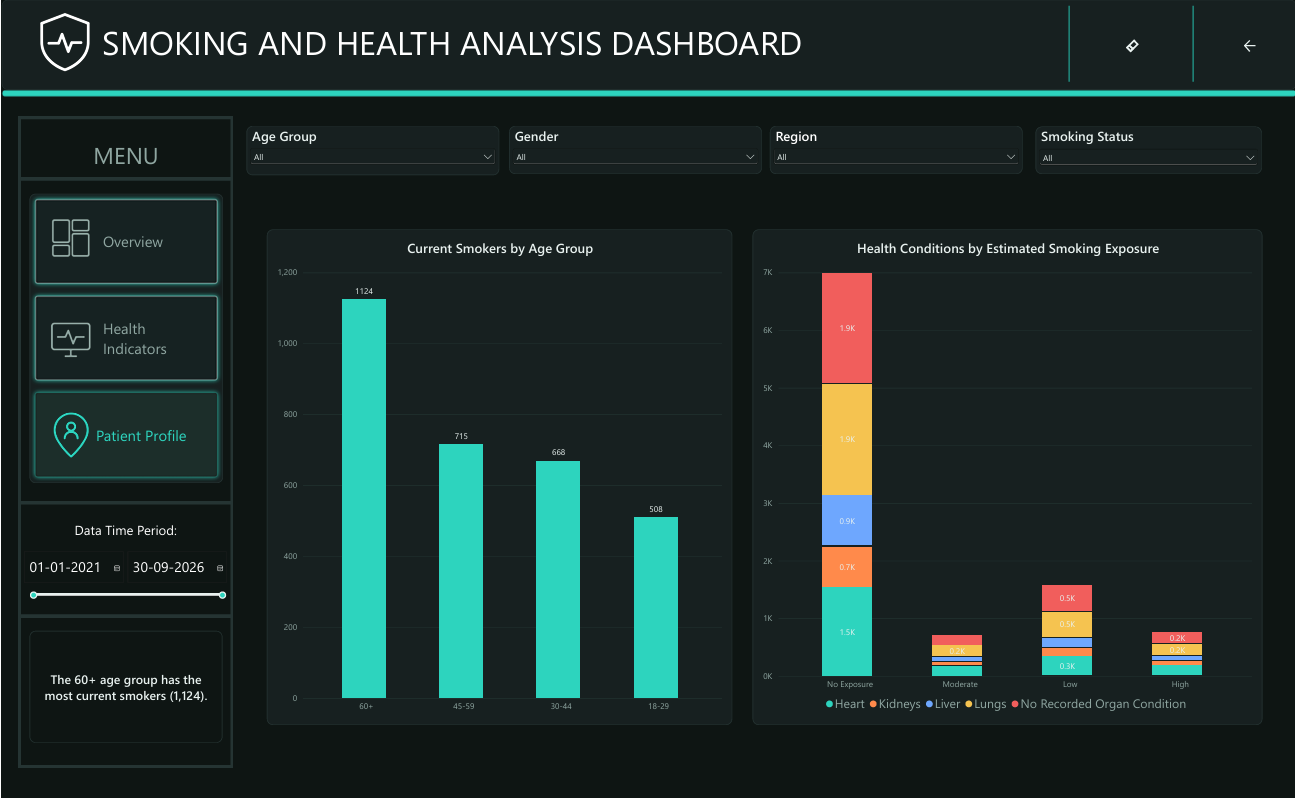

What the dashboard file says about the page in this screenshot:
{"tool":"powerbi","page":{"name":"Patient Profile","canvas":[2100,1300],"ordinal":2},"visuals":[{"type":"clusteredColumnChart","title":"Current Smokers by Age Group","fields":{"Category":["Smoking_Health_Analysis.Age Group"],"Y":["CountNonNull(Smoking_Health_Analysis.Smoking_Status)"]},"box":[430,372.5,755,805],"z":0},{"type":"columnChart","title":"Health Conditions by Estimated Smoking Exposure","fields":{"Category":["Smoking_Health_Analysis.Smoking Exposure Level"],"Series":["Smoking_Health_Analysis.Diagnosed_Organ"],"Y":["CountNonNull(Smoking_Health_Analysis.Health_Condition)"]},"box":[1217.5,372.5,827.5,805],"z":1000},{"type":"shape","box":[27.3,190,348.2,1057.3],"z":2000},{"type":"pageNavigator","box":[45.5,315.5,313.6,470],"z":3000},{"type":"shape","box":[27.9,840,346.4,42.1],"z":4000},{"type":"slicer","fields":{"Values":["Smoking_Health_Analysis.Diagnosis_Date"]},"box":[27.9,890.7,346.4,97.1],"z":5000},{"type":"shape","box":[27.9,794.3,346.4,45.7],"z":6000},{"type":"shape","box":[27.9,977.9,346.4,46.4],"z":7000},{"type":"shape","box":[27.9,267.9,346.4,45.7],"z":8000},{"type":"textbox","box":[27.7,226.9,347.7,57.7],"z":9000},{"type":"cardVisual","fields":{"Data":["measure.Insight Text P3"]},"box":[45,1025,313.3,181.7],"z":10000},{"type":"shape","box":[0,0,2100,145.8],"z":11000},{"type":"shape","box":[0,146,2100,12.2],"z":12000},{"type":"image","box":[45,0,115,135],"z":13000},{"type":"textbox","box":[127.5,31.2,1185,103.8],"z":14000},{"type":"actionButton","box":[1773.5,14.1,120,120.8],"z":15000},{"type":"shape","box":[1725.3,10,12.9,122.9],"z":16000},{"type":"shape","box":[1926.5,10,12.9,122.9],"z":17000},{"type":"actionButton","box":[1975,55,100,40],"z":18000},{"type":"slicer","fields":{"Values":["Smoking_Health_Analysis.Age Group"]},"box":[397,205,410,80],"z":19000},{"type":"slicer","fields":{"Values":["Smoking_Health_Analysis.Gender"]},"box":[823,205,410,77.5],"z":20000},{"type":"slicer","fields":{"Values":["Smoking_Health_Analysis.Region"]},"box":[1246,205,410,77.5],"z":21000},{"type":"slicer","fields":{"Values":["Smoking_Health_Analysis.Smoking_Status"]},"box":[1677,206,366.7,76.7],"z":22000},{"type":"image","box":[67.3,347.3,90,80],"z":23000},{"type":"image","box":[67.3,510.9,90,80],"z":24000},{"type":"image","box":[67.3,662.7,90,87],"z":25000}]}

Visuals, with their boxes in screenshot pixels (x1, y1, x2, y2), scaled from the page's 2100x1300 canvas onto the 1295x798 screenshot:
"Current Smokers by Age Group" clusteredColumnChart: 265:229:731:723
"Health Conditions by Estimated Smoking Exposure" columnChart: 751:229:1261:723
shape: 17:117:232:766
pageNavigator: 28:194:221:482
shape: 17:516:231:541
slicer - Smoking_Health_Analysis.Diagnosis_Date: 17:547:231:606
shape: 17:488:231:516
shape: 17:600:231:629
shape: 17:164:231:193
textbox: 17:139:231:175
cardVisual - measure.Insight Text P3: 28:629:221:741
shape: 0:0:1294:89
shape: 0:90:1294:97
image: 28:0:99:83
textbox: 79:19:809:83
actionButton: 1094:9:1168:83
shape: 1064:6:1072:82
shape: 1188:6:1196:82
actionButton: 1218:34:1280:58
slicer - Smoking_Health_Analysis.Age Group: 245:126:498:175
slicer - Smoking_Health_Analysis.Gender: 508:126:760:173
slicer - Smoking_Health_Analysis.Region: 768:126:1021:173
slicer - Smoking_Health_Analysis.Smoking_Status: 1034:126:1260:174
image: 42:213:97:262
image: 42:314:97:363
image: 42:407:97:460
